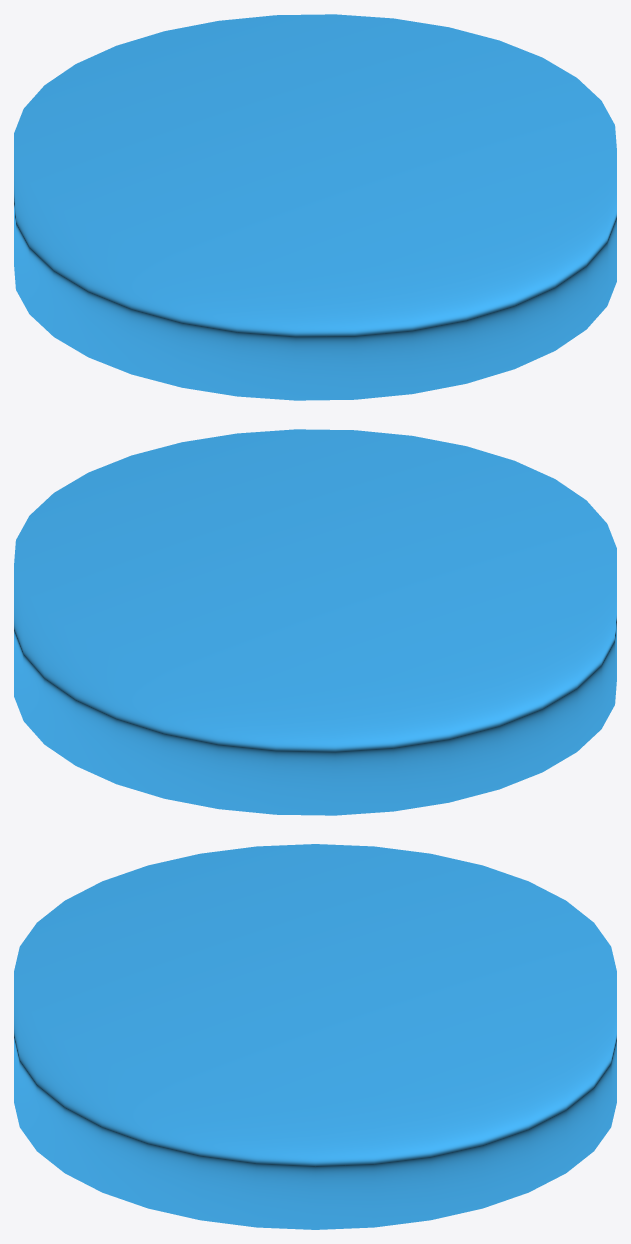
The model's file is SUV_Washer_Fluid_Cap_Blue.glb.
The picture shows the model from 3 angles, top to bottom: view 1: azimuth 30°, elevation 25°; view 2: azimuth 150°, elevation 25°; view 3: azimuth 270°, elevation 25°; orthographic projection.
Visible parts, largest first — view 1: SUV_Washer_Fluid_Cap_Blue; view 2: SUV_Washer_Fluid_Cap_Blue; view 3: SUV_Washer_Fluid_Cap_Blue.
Part boxes in pixels (box(x1,y1,x2,y2)): SUV_Washer_Fluid_Cap_Blue: box(14, 14, 616, 400); SUV_Washer_Fluid_Cap_Blue: box(14, 429, 616, 815); SUV_Washer_Fluid_Cap_Blue: box(14, 844, 616, 1229).
Size of the model in its own units: 0.05 by 0.012 by 0.05.
